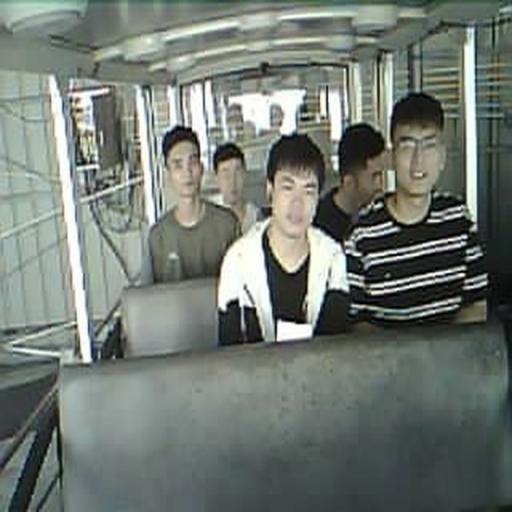persona: (344, 90, 491, 328), (217, 132, 350, 346), (144, 124, 242, 284), (312, 122, 388, 245), (212, 142, 264, 236)
